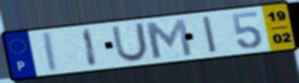5: (230, 10, 264, 50)
I: (42, 30, 61, 74), (200, 14, 220, 55), (81, 27, 100, 68)
M: (142, 17, 195, 61)
U: (110, 21, 150, 63)
